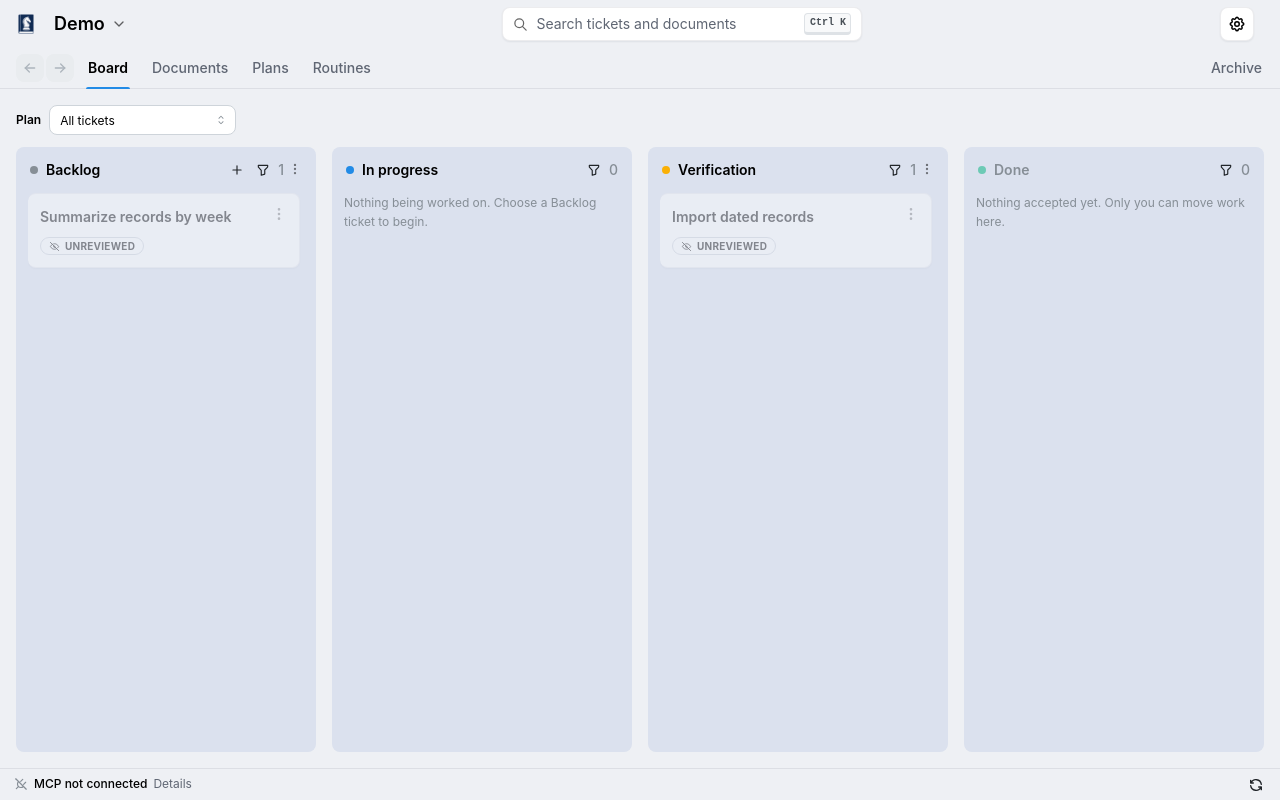
results › finds a ticket by text that only appears in its body
The image size is (1280, 800).
Expected: the text "Import dated records" is shown, [672,208,814,225]
Click the button "Search tickets and documents Ctrl K" at (682, 24), box [502,7,862,41]
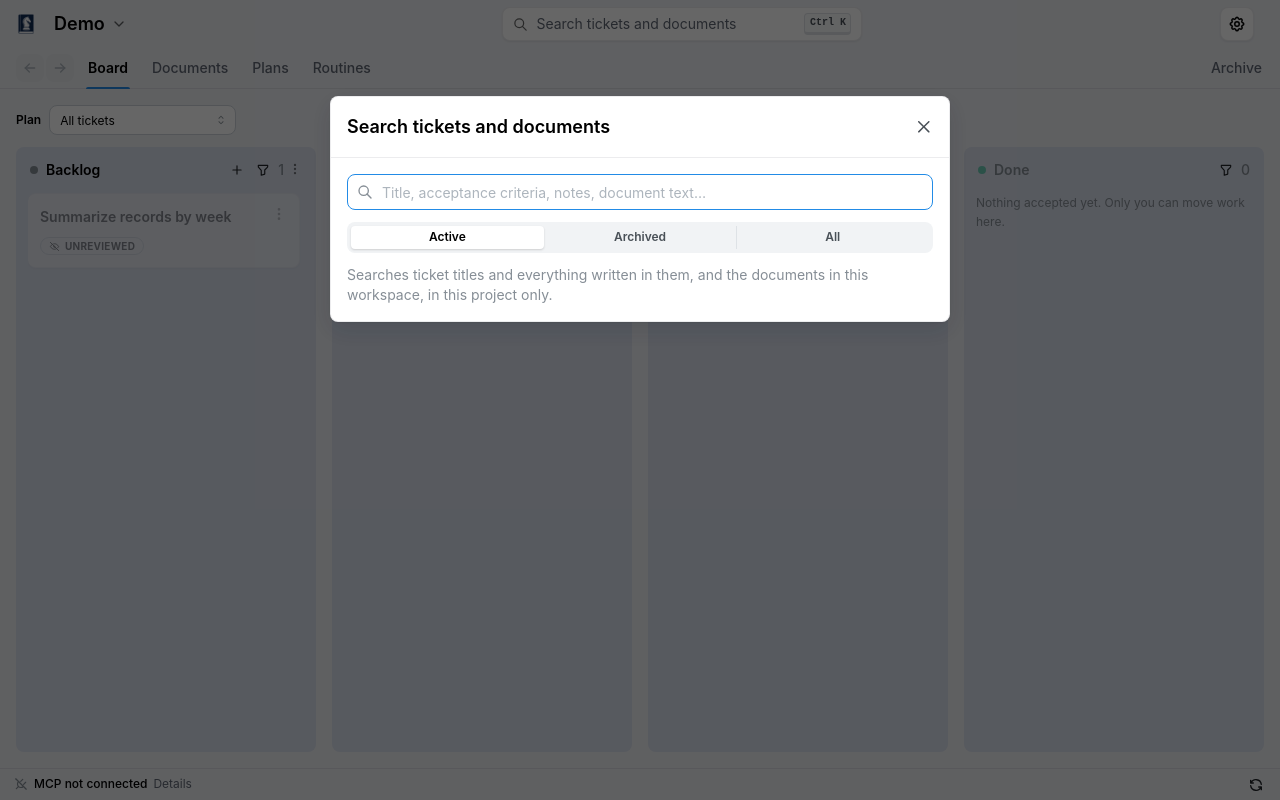
Type "import" into the field named "Search tickets and documents" at (640, 192), box [347,174,933,210]
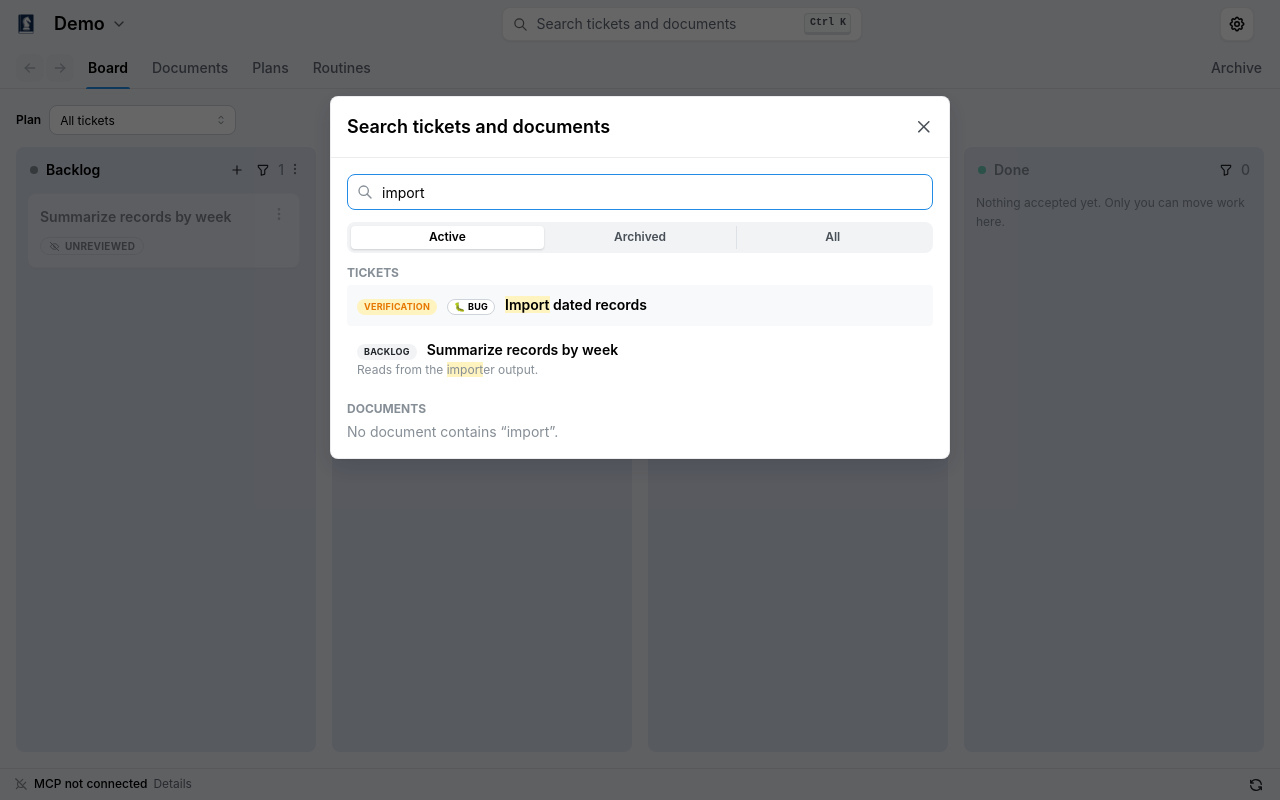
Expected: the number of options is 2, [347,285,933,326]; [347,330,933,389]
Expected: the option that starts with "Backlog" shows "Reads from the importer output.", [347,330,933,389]
